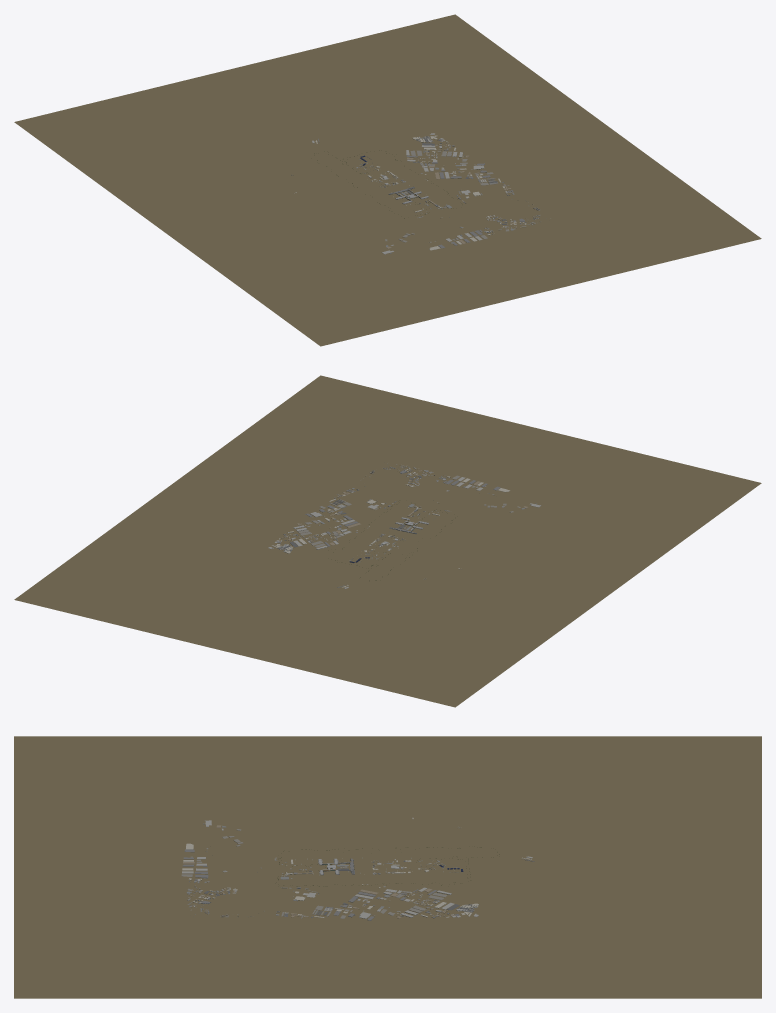
The model's file is scl_contexto.glb.
The picture shows the model from 3 angles, top to bottom: view 1: azimuth 30°, elevation 25°; view 2: azimuth 150°, elevation 25°; view 3: azimuth 270°, elevation 25°; orthographic projection. The views are drawn at different scales.
Parts seen in each view (by area): view 1: SCL_FieldSurround_web, SCL_Buildings_Generic_0_web, SCL_Buildings_Generic_3_web, SCL_Buildings_Generic_1_web, SCL_Buildings_Generic_2_web; view 2: SCL_FieldSurround_web, SCL_Buildings_Generic_0_web, SCL_Buildings_Generic_3_web, SCL_Buildings_Generic_1_web, SCL_Buildings_Generic_2_web; view 3: SCL_FieldSurround_web, SCL_Buildings_Generic_0_web, SCL_Buildings_Generic_3_web, SCL_Buildings_Generic_1_web, SCL_Buildings_Generic_2_web.
Part boxes in pixels (x1,y1,x2,y2): SCL_FieldSurround_web: (14,14,761,346); SCL_Buildings_Generic_0_web: (292,133,546,254); SCL_Buildings_Generic_3_web: (291,135,550,250); SCL_Buildings_Generic_1_web: (291,136,539,253); SCL_Buildings_Generic_2_web: (293,137,549,248); SCL_FieldSurround_web: (14,375,761,707); SCL_Buildings_Generic_0_web: (268,464,541,588); SCL_Buildings_Generic_3_web: (272,462,513,587); SCL_Buildings_Generic_1_web: (277,466,536,587); SCL_Buildings_Generic_2_web: (279,463,527,585); SCL_FieldSurround_web: (14,736,761,998); SCL_Buildings_Generic_0_web: (182,820,532,918); SCL_Buildings_Generic_3_web: (182,818,531,918); SCL_Buildings_Generic_1_web: (182,823,534,920); SCL_Buildings_Generic_2_web: (181,817,522,918).
Bounding box in the file's own units: 14170 × 66.2 × 17055.
